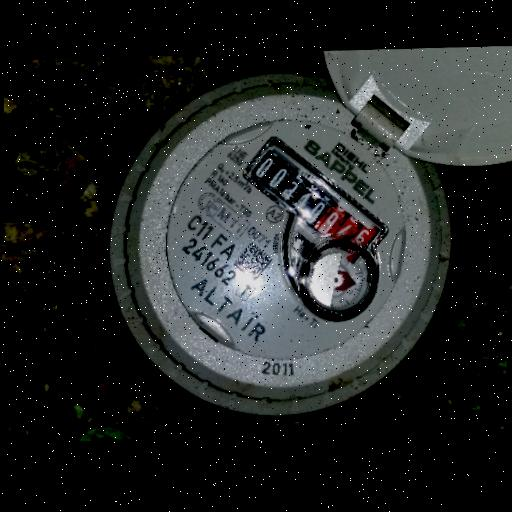0: (299, 191, 335, 229), (250, 147, 284, 185), (263, 159, 296, 195)
1: (287, 180, 324, 219)
3: (273, 169, 310, 208)
4: (324, 211, 363, 252)
6: (348, 217, 379, 253)
9: (313, 201, 349, 241)
border_water_meter_number: (238, 128, 394, 276)
